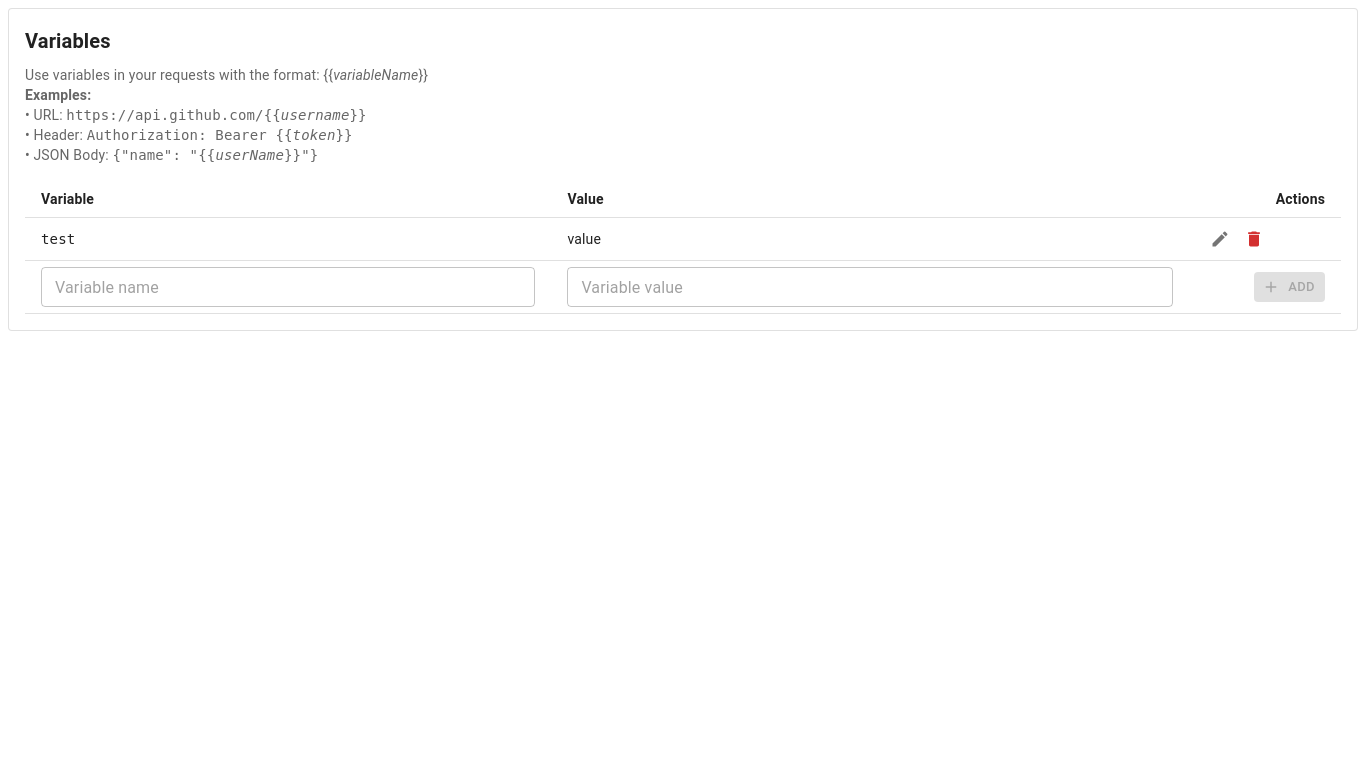
Scenario: ExistingVariables › should show error snackbar when saving with empty name
The image size is (1366, 768).
Click the button titled "Edit". click: (1220, 239)
box: [1205,224,1235,254]
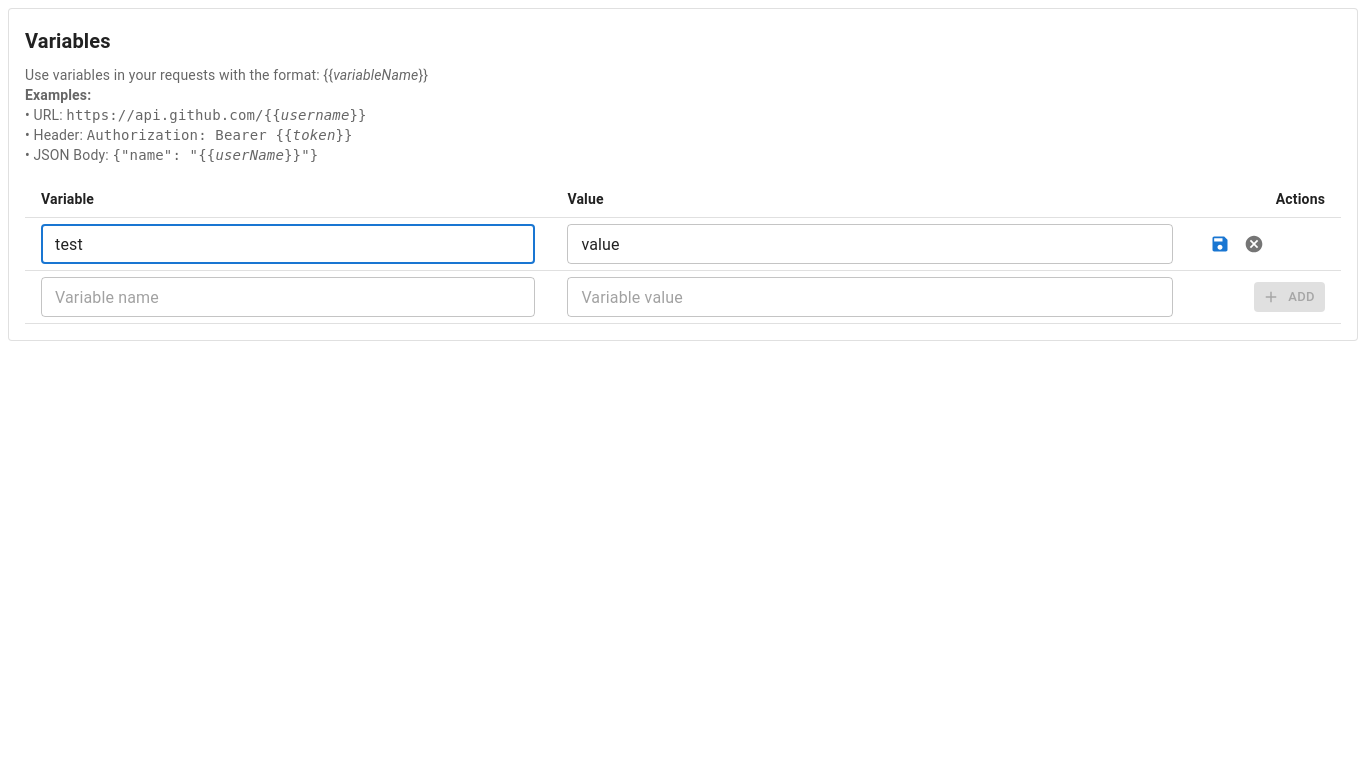
Clear the 1st field showing "test". click: (288, 244)
box: [41,224,535,264]
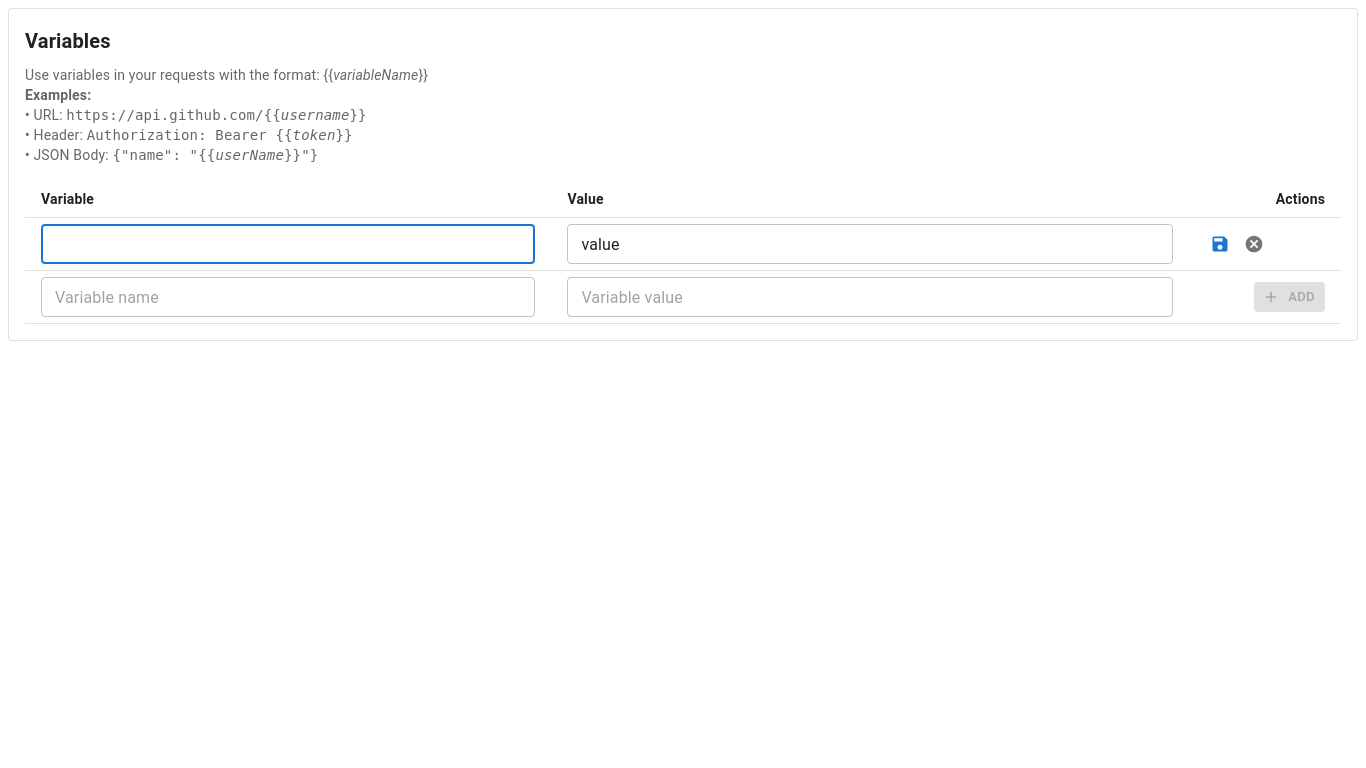
Click the button titled "Save". click: (1220, 244)
box: [1205,229,1235,259]
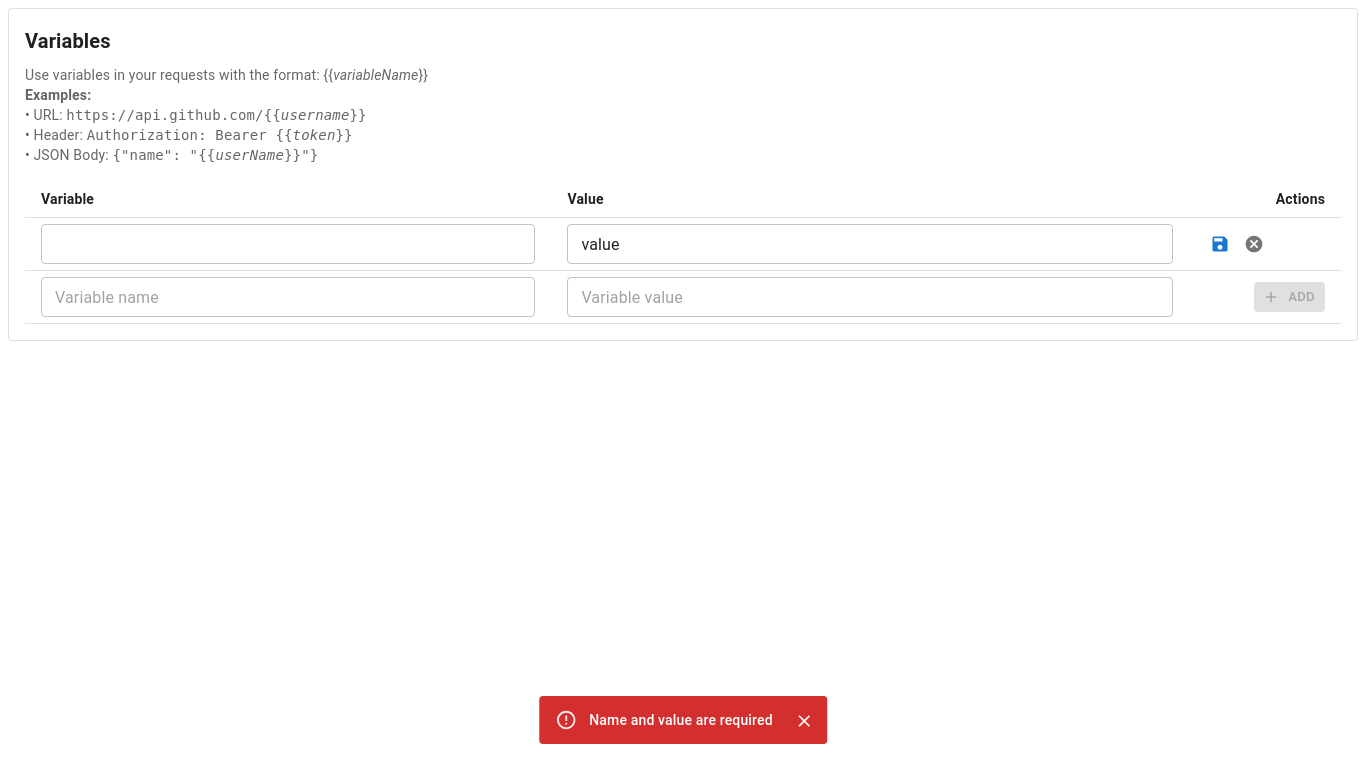
Result: the text "Name and value are required" is shown at [589,712,773,728]
